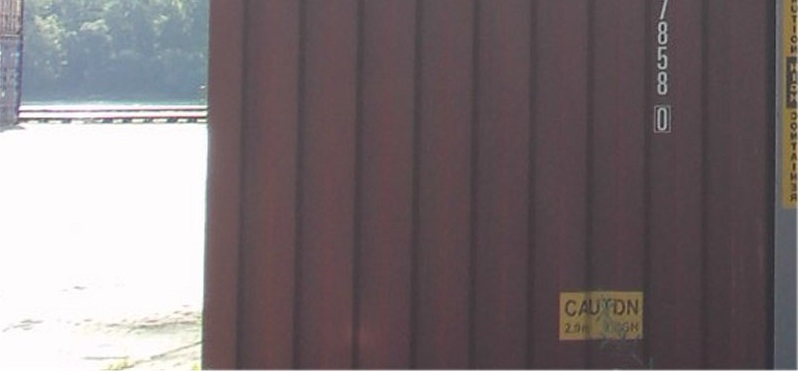container_no_door: (201, 3, 776, 365)
